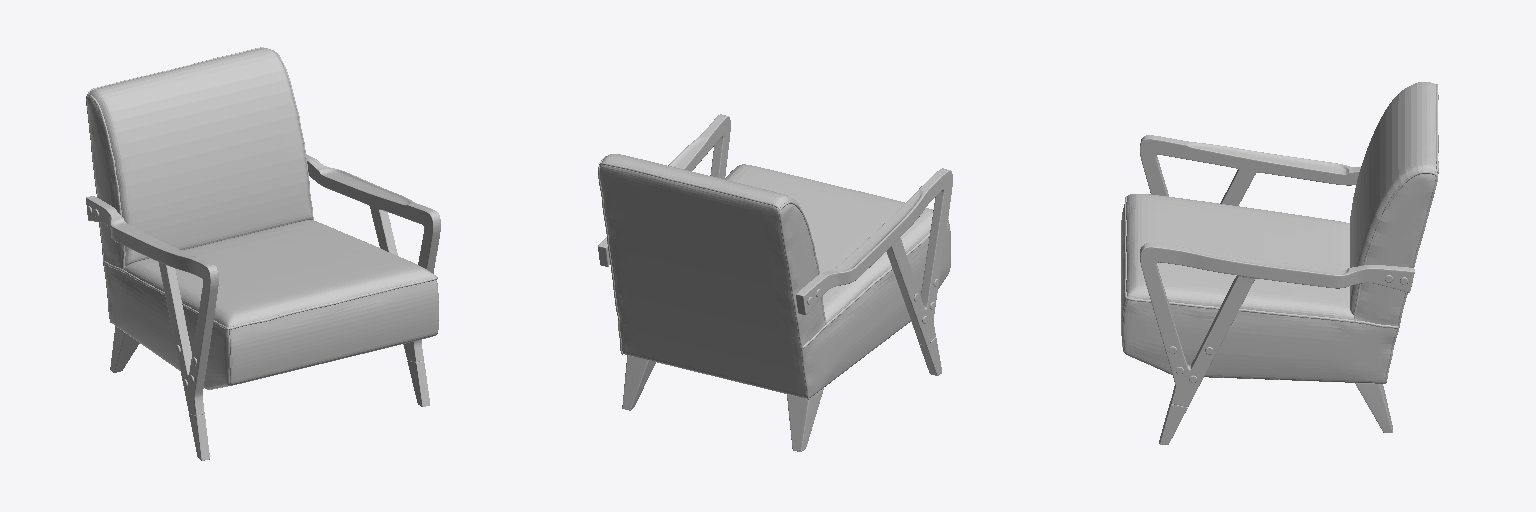
The model's file is chair.obj.
3 renders of one model, left to right at view 1: azimuth 30°, elevation 25°; view 2: azimuth 150°, elevation 25°; view 3: azimuth 270°, elevation 25°, orthographic.
Visible parts, largest first — view 1: The__Charles__Club__Chair; view 2: The__Charles__Club__Chair; view 3: The__Charles__Club__Chair.
Part boxes in pixels (bbox=[...]): The__Charles__Club__Chair: bbox=[86, 47, 440, 460]; The__Charles__Club__Chair: bbox=[598, 114, 952, 451]; The__Charles__Club__Chair: bbox=[1121, 82, 1438, 444].
Bounding box in the file's own units: 70.38 × 76.62 × 82.76.